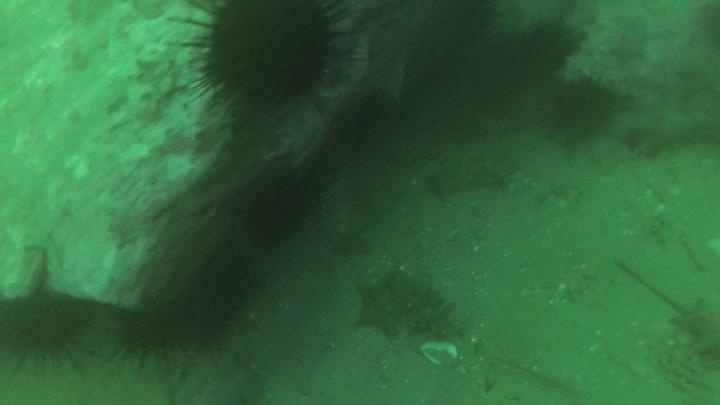echinus: (184, 2, 352, 116), (1, 291, 87, 369), (235, 165, 316, 247), (114, 299, 195, 363), (545, 74, 619, 142), (511, 18, 580, 80)
holothurian: (383, 268, 460, 342), (555, 15, 620, 84), (317, 170, 365, 257)
starfish: (251, 316, 334, 392), (623, 96, 715, 160), (351, 277, 411, 340), (669, 294, 720, 360)
